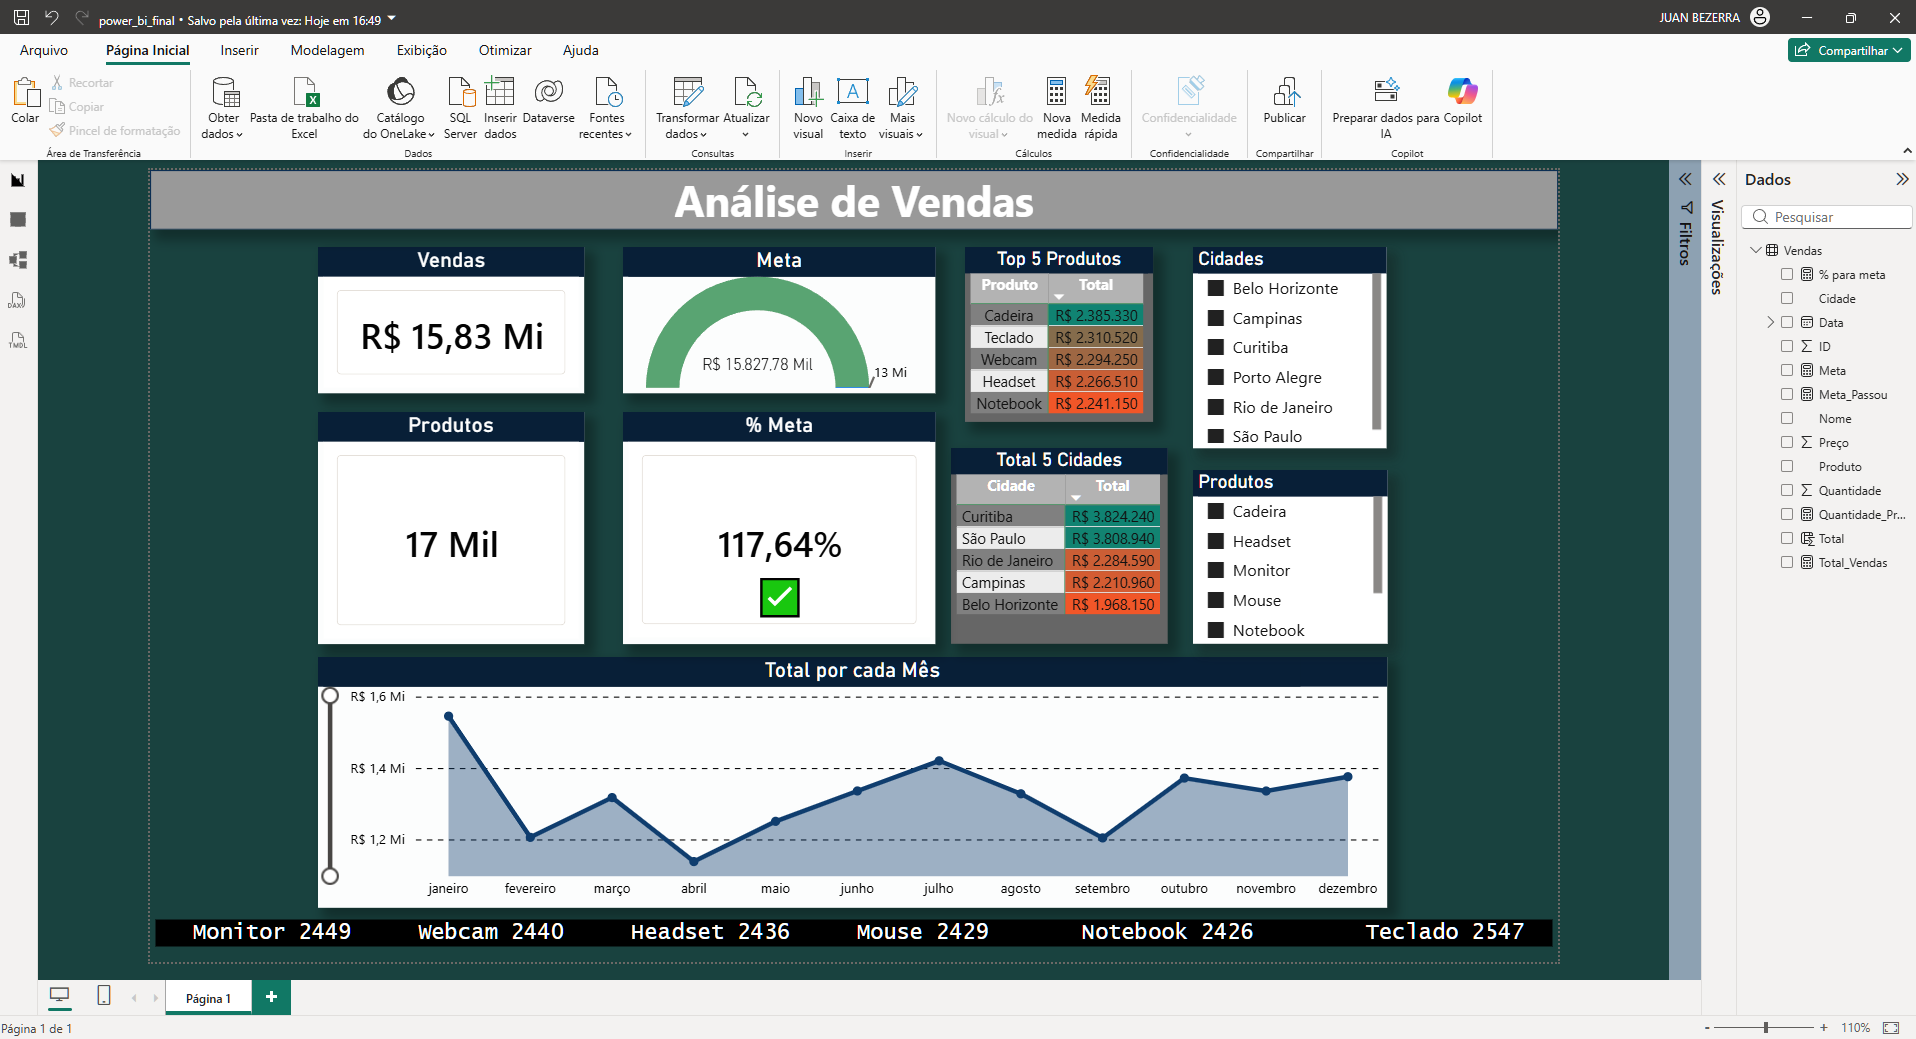

The dashboard page shown, as its layout file describes it:
{"tool":"powerbi","page":{"name":"Página 1","canvas":[1280,720],"ordinal":0},"visuals":[{"type":"cardVisual","title":"Vendas","fields":{"Data":["Vendas.Total_Vendas"]},"box":[152.9,70,242.3,133.5],"z":0},{"type":"cardVisual","title":"Produtos","fields":{"Data":["Vendas.Quantidade_Produto"]},"box":[153,220,242,211],"z":1000},{"type":"shape","title":"Análise de Vendas","box":[0,0,1280.2,54.4],"z":2000},{"type":"lineChart","title":"Total por cada Mês","fields":{"Category":["Vendas.Data.Variation.Hierarquia de datas.Mês"],"Y":["Sum(Vendas.Total)"]},"box":[152.9,443.1,972,228.3],"z":3000},{"type":"pivotTable","title":"Total 5 Cidades","fields":{"Rows":["Vendas.Cidade"],"Values":["Sum(Vendas.Total)"]},"box":[728,253,197,178],"z":4000},{"type":"pivotTable","title":"Top 5 Produtos","fields":{"Values":["Sum(Vendas.Total)"],"Rows":["Vendas.Produto"]},"box":[741,70,171,159],"z":5000},{"type":"ScrollingTextVisual1448795304508","fields":{"Category":["Vendas.Produto"],"Measure Deviation":["Sum(Vendas.Quantidade)"]},"box":[0,676.1,1280.2,34.2],"z":6000},{"type":"gauge","title":"Meta","fields":{"Y":["Vendas.Total_Vendas"],"TargetValue":["Vendas.Meta"],"MaxValue":["Vendas.Meta"]},"box":[430.4,70,284.5,133.5],"z":7000},{"type":"cardVisual","title":"% Meta","fields":{"Data":["Vendas.% para meta"]},"box":[430.4,220.1,284.5,210.7],"z":8000},{"type":"cardVisual","title":"% Meta","fields":{"Data":["Vendas.Meta_Passou"]},"box":[523,346,100,78],"z":9000},{"type":"slicer","title":"Cidades","fields":{"Values":["Vendas.Cidade"]},"box":[948.4,70,176.5,182.6],"z":10000},{"type":"slicer","title":"Produtos","fields":{"Values":["Vendas.Produto"]},"box":[948,273,177,158],"z":11000}]}

Visuals, with their boxes on the page's 1280x720 design canvas (x1, y1, x2, y2). These are canvas units, not pixel positions in the 1916x1039 screenshot, which may show the page scaled, cropped or inside an application window:
"Vendas" cardVisual: (153, 70, 395, 204)
"Produtos" cardVisual: (153, 220, 395, 431)
"Análise de Vendas" shape: (0, 0, 1280, 54)
"Total por cada Mês" lineChart: (153, 443, 1125, 671)
"Total 5 Cidades" pivotTable: (728, 253, 925, 431)
"Top 5 Produtos" pivotTable: (741, 70, 912, 229)
ScrollingTextVisual1448795304508 - Vendas.Produto x Sum(Vendas.Quantidade): (0, 676, 1280, 710)
"Meta" gauge: (430, 70, 715, 204)
"% Meta" cardVisual: (430, 220, 715, 431)
"% Meta" cardVisual: (523, 346, 623, 424)
"Cidades" slicer: (948, 70, 1125, 253)
"Produtos" slicer: (948, 273, 1125, 431)
